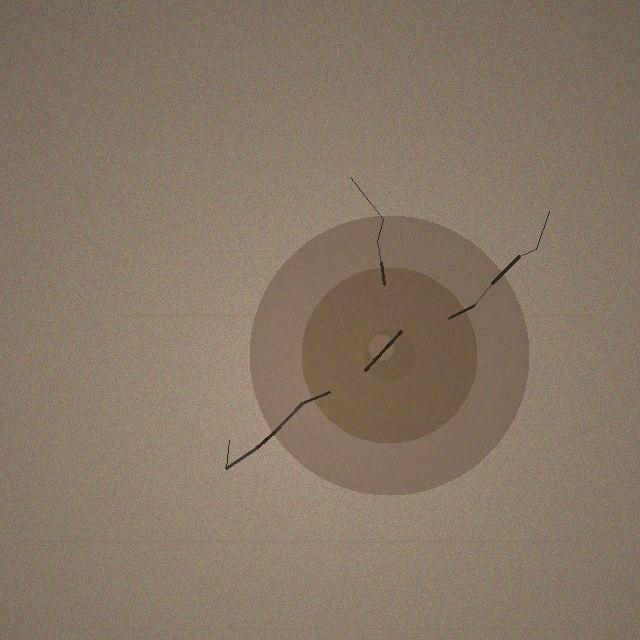crack: (249, 215, 529, 495)
